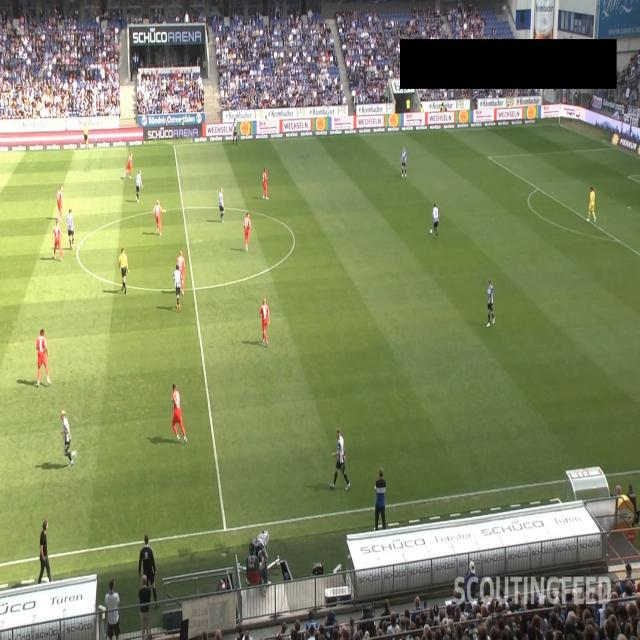ball: (429, 228, 433, 235)
